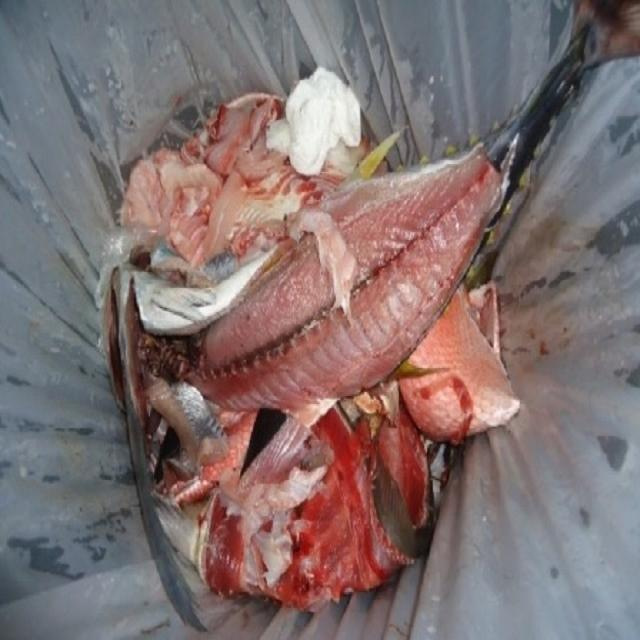food_waste: (148, 146, 494, 542)
